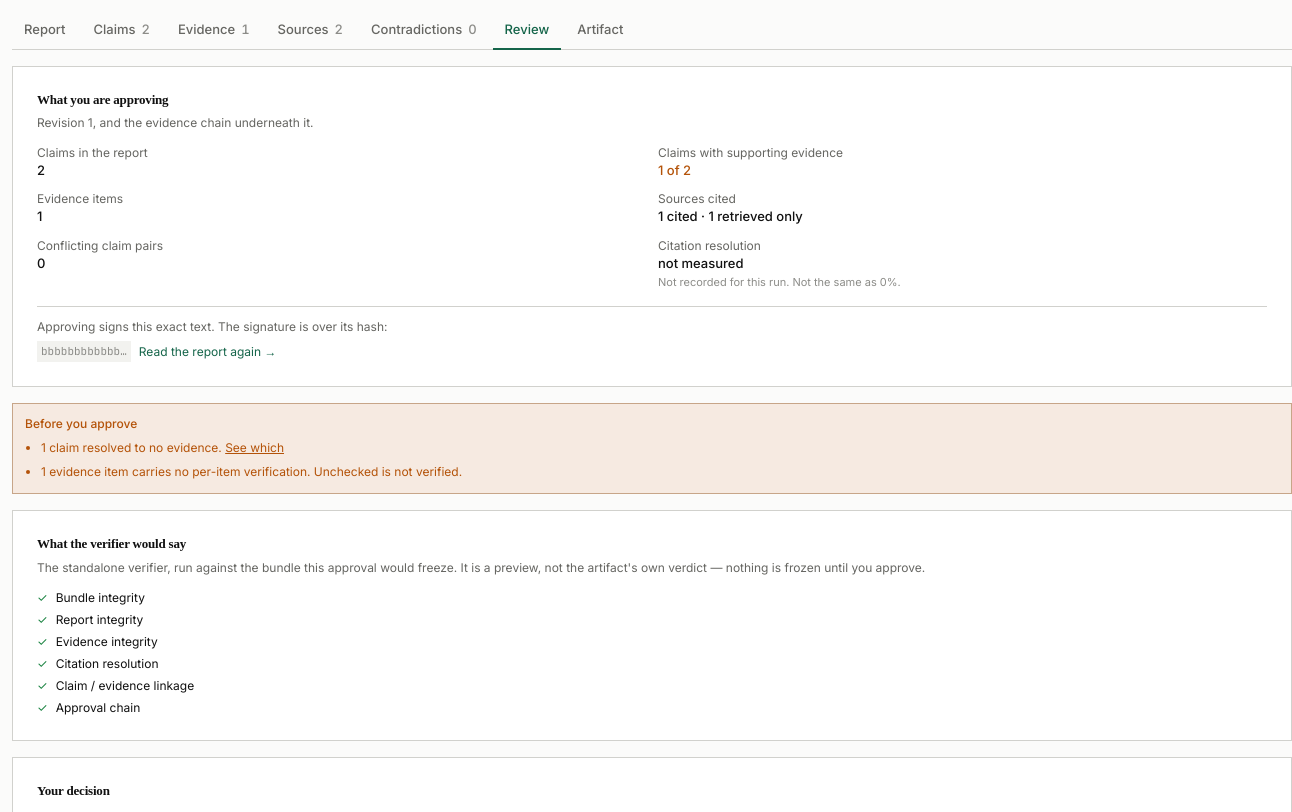
Scenario: RunWorkspace › names claims that resolved to no evidence instead of hiding them
The image size is (1292, 812).
Click the tab "Claims2".
click(122, 31)  # box [82,12,162,50]
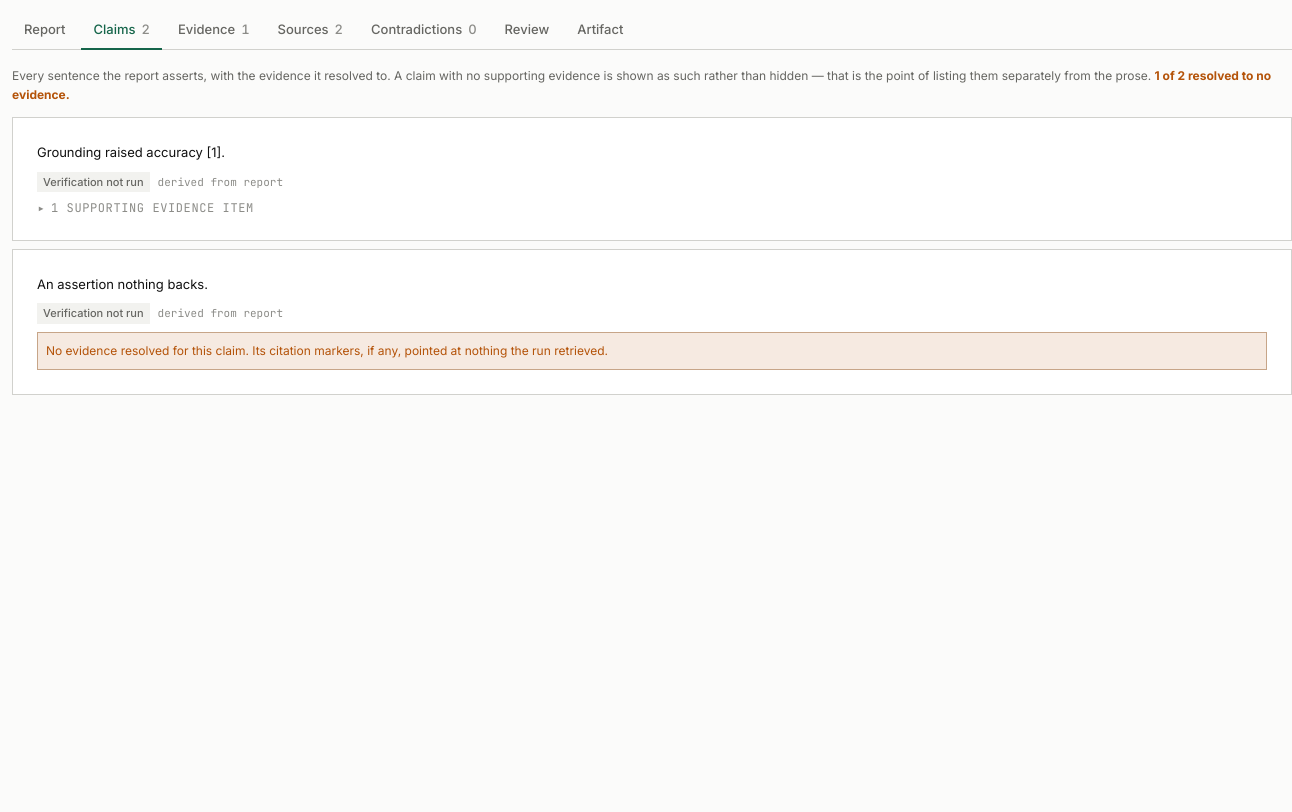
Result: the text "No evidence resolved for this claim" is shown at [46,343,608,358]
Result: the text "1 supporting evidence item" is shown at [51,200,254,216]
